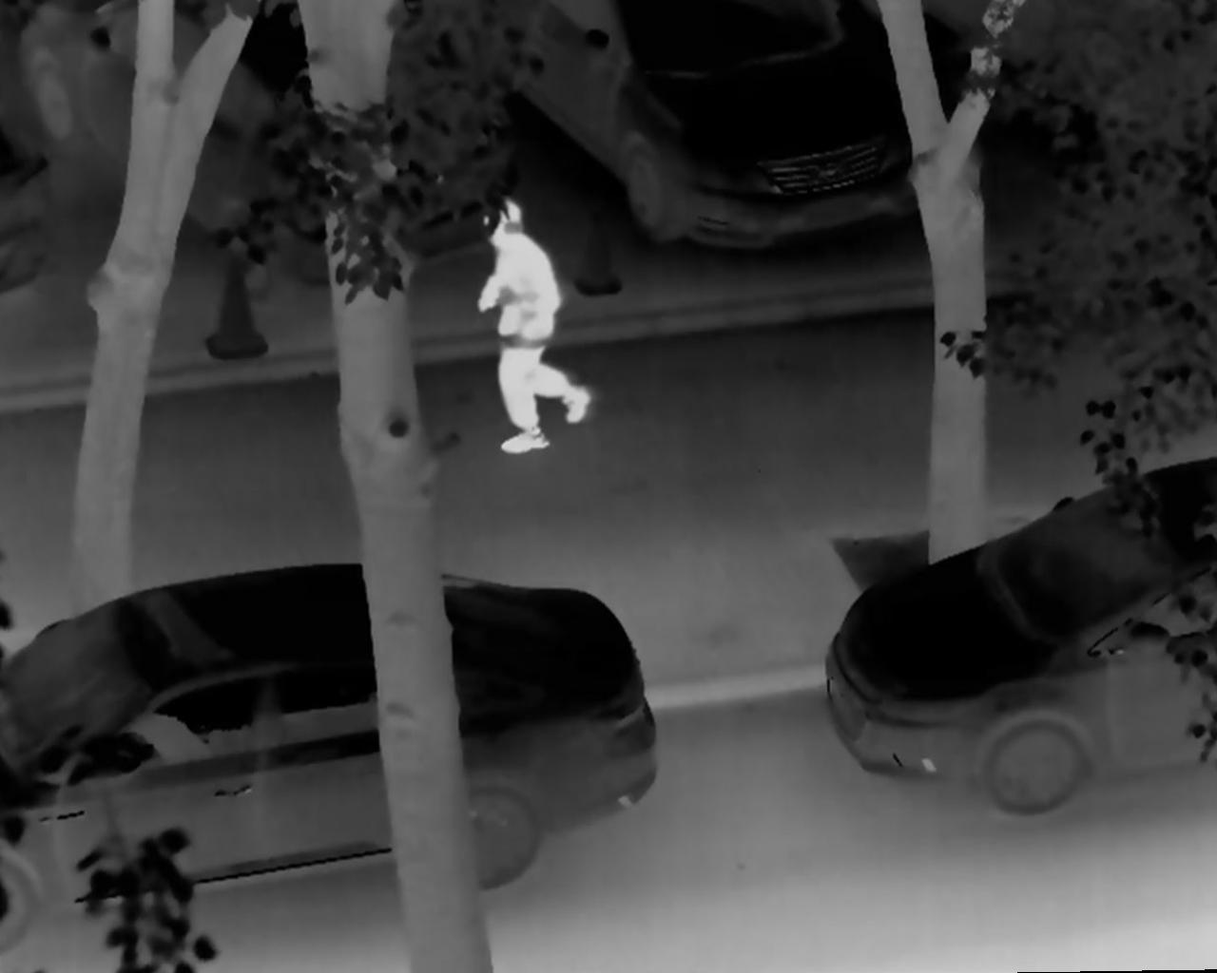person: (456, 196, 591, 456)
